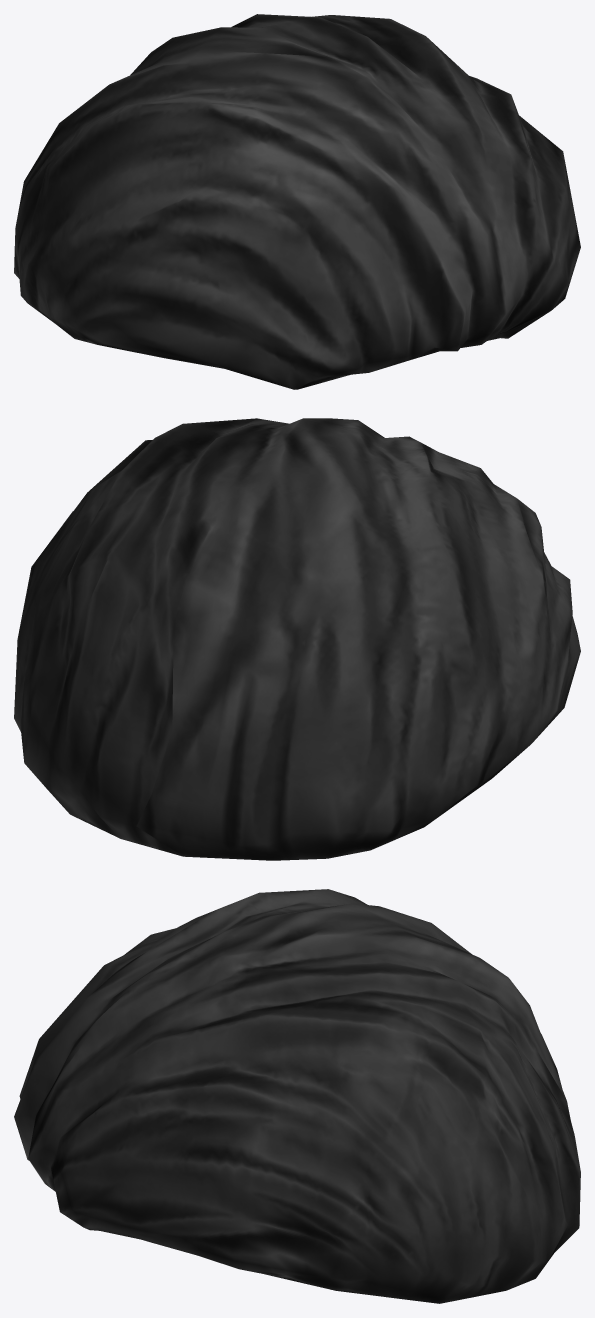
File: AF_M_hair_15.fbx
The picture shows the model from 3 angles, top to bottom: view 1: azimuth 30°, elevation 25°; view 2: azimuth 150°, elevation 25°; view 3: azimuth 270°, elevation 25°; orthographic projection. The views are drawn at different scales.
Visible parts, largest first — view 1: AF_M_hair_15; view 2: AF_M_hair_15; view 3: AF_M_hair_15.
Boxes of the visible parts, <box> form: AF_M_hair_15: <box>14,14,580,389</box>; AF_M_hair_15: <box>14,418,580,860</box>; AF_M_hair_15: <box>14,889,580,1303</box>.
Bounding box in the file's own units: 709 × 428 × 727.
